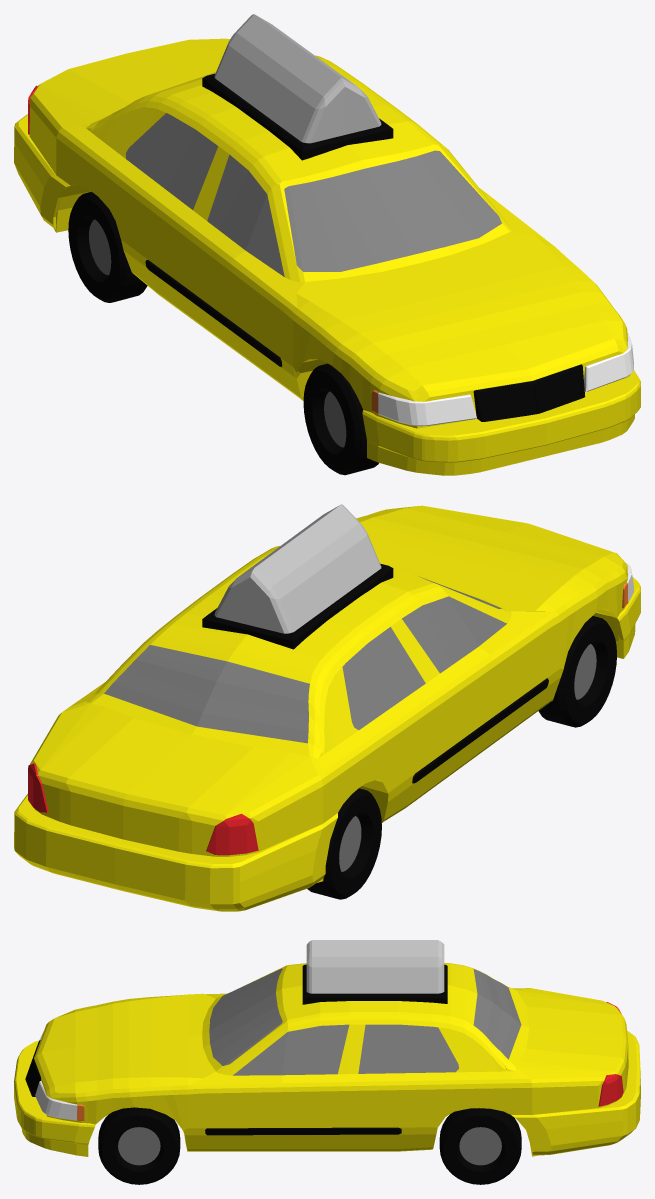
File: Пробка Такси.fbx
3 renders of one model, top to bottom at view 1: azimuth 30°, elevation 25°; view 2: azimuth 150°, elevation 25°; view 3: azimuth 270°, elevation 25°, orthographic. The views are drawn at different scales.
Visible parts, largest first — view 1: Cube; view 2: Cube; view 3: Cube.
Boxes of the visible parts, x1,y1,x2,y2 form: Cube: [14, 14, 640, 475]; Cube: [14, 504, 640, 911]; Cube: [14, 940, 640, 1184].
Bounding box in the file's own units: 114 × 110 × 313.
